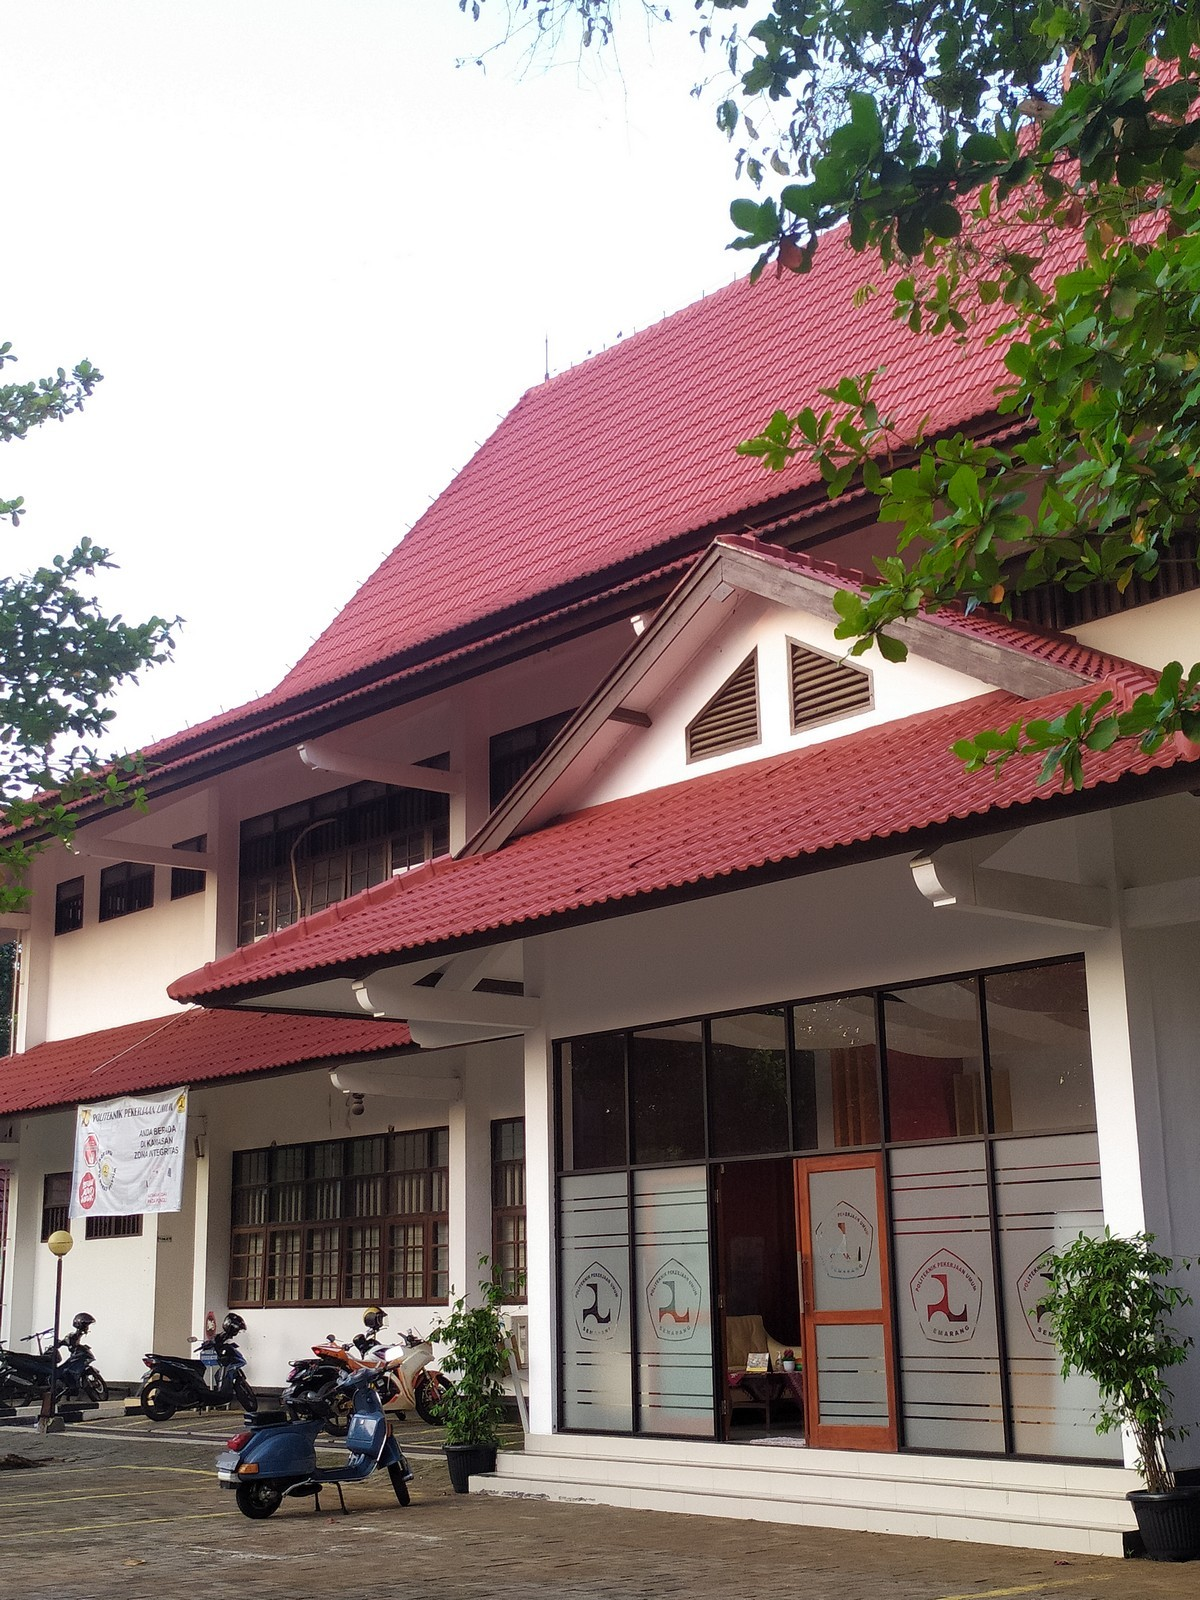concrete column: (439, 1062, 498, 1315), (441, 690, 494, 855), (198, 789, 239, 960)
